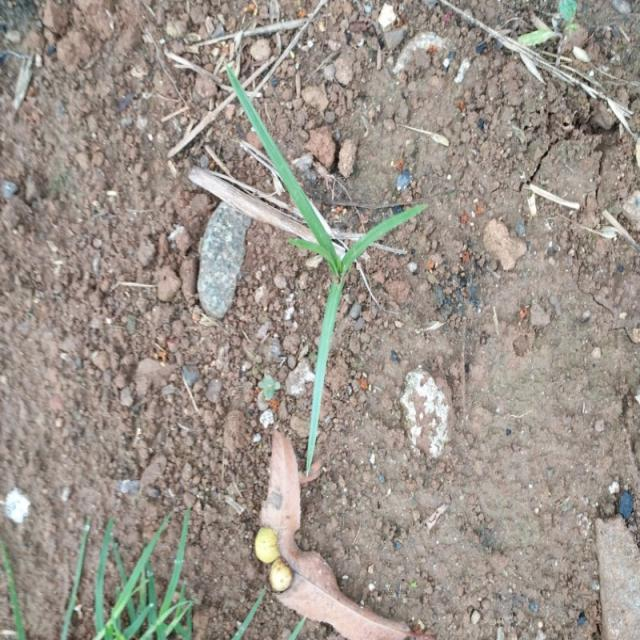sedge: (204, 61, 446, 424)
